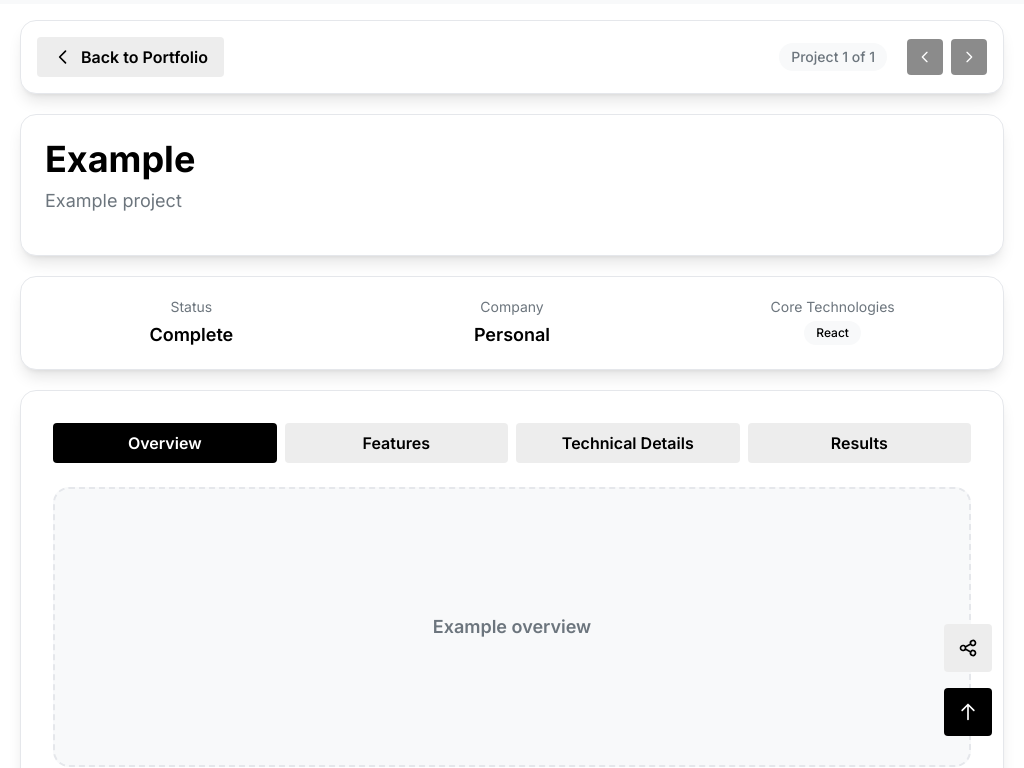
Scenario: optional project detail sections › shows the Challenges heading and content when a challenge exists
Click the button "Technical Details": (628, 443) x1=516 y1=423 x2=740 y2=463
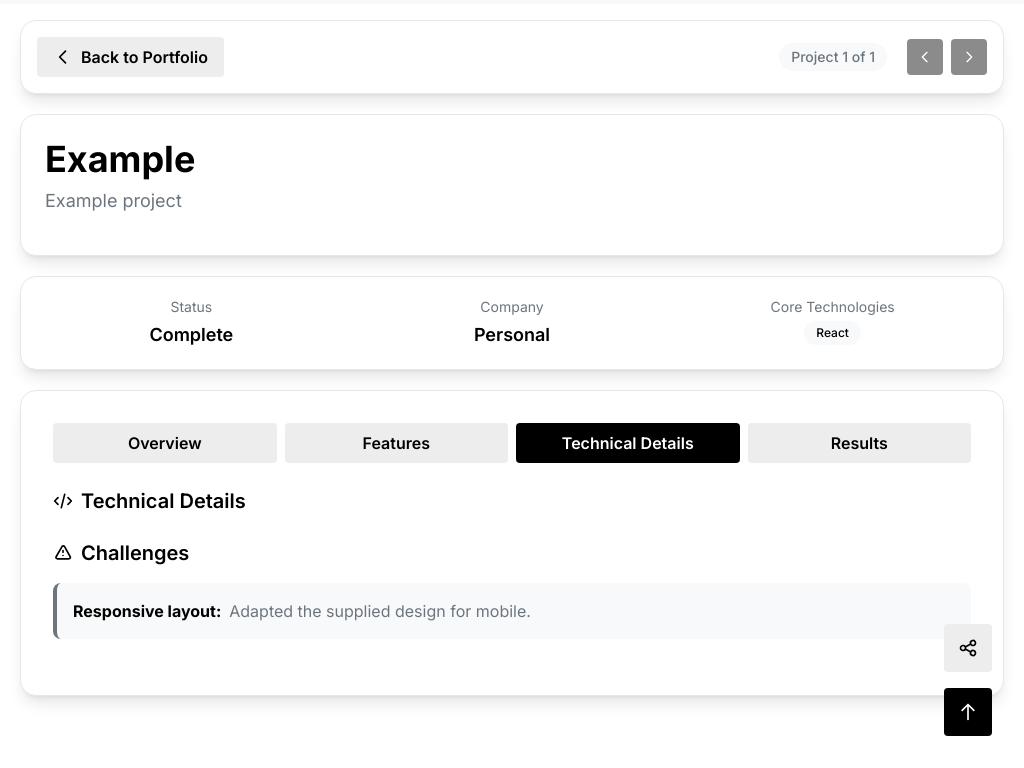
Result: the text "Responsive layout" is shown at x1=73 y1=601 x2=216 y2=621
Result: the text "Adapted the supplied design for mobile." is shown at x1=229 y1=601 x2=531 y2=621
